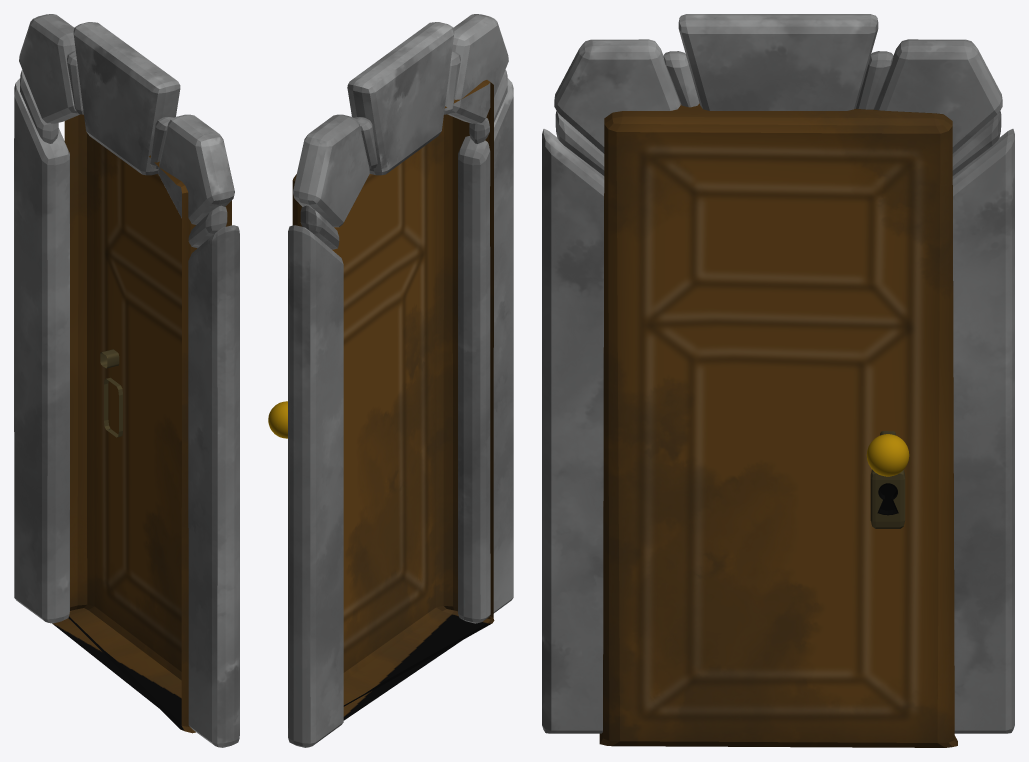
Rendered from Door.fbx.
3 views of the same model, side by side, from view 1: azimuth 30°, elevation 25°; view 2: azimuth 150°, elevation 25°; view 3: azimuth 270°, elevation 25° (orthographic). The views are drawn at different scales.
Parts seen in each view (by area): view 1: Door, Keyhole; view 2: Door, Doorknob; view 3: Door, Keyhole, Doorknob.
Boxes of the visible parts, x1,y1,x2,y2 form: Door: (14,14,239,747); Keyhole: (104,377,122,437); Door: (288,14,513,747); Doorknob: (268,401,287,438); Door: (542,14,1014,747); Keyhole: (870,469,905,528); Doorknob: (866,431,909,476).
Size of the model in its own units: 75.88 by 444 by 266.
3 materials, 3 textured.
